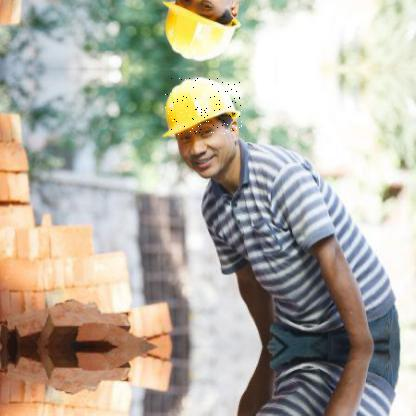safetyhelmet: (164, 78, 243, 136)
